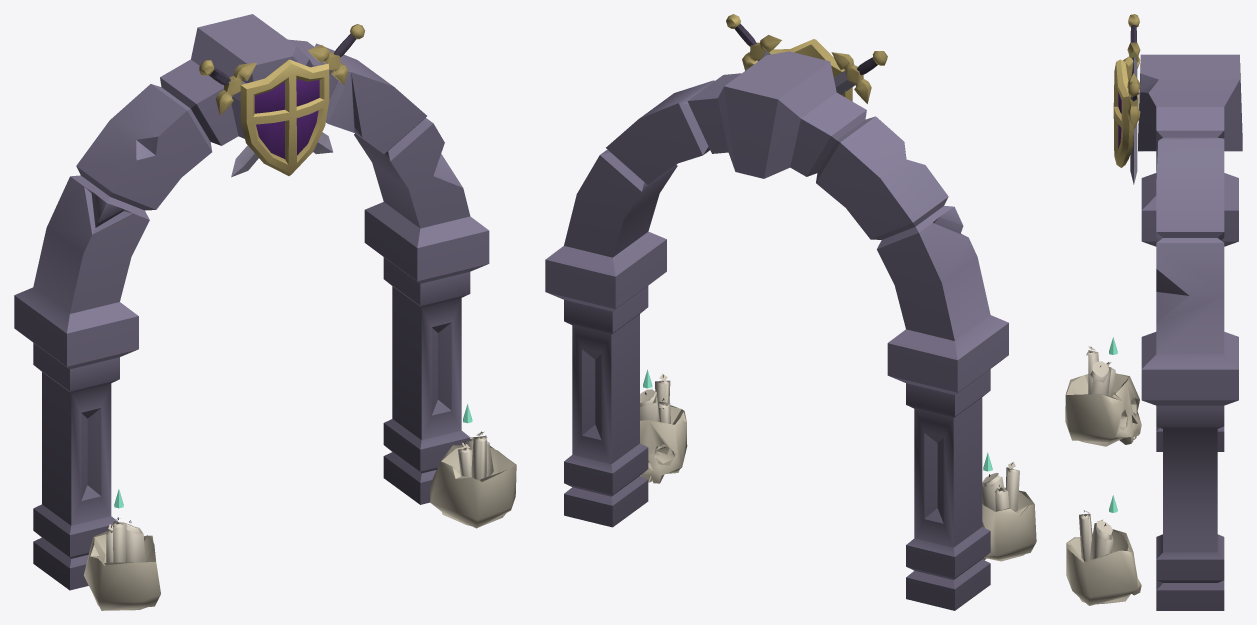
File: boss_gate.fbx
The picture shows the model from 3 angles, left to right: view 1: azimuth 30°, elevation 25°; view 2: azimuth 150°, elevation 25°; view 3: azimuth 270°, elevation 25°; orthographic projection. The views are drawn at different scales.
Parts seen in each view (by area): view 1: boss_gate; view 2: boss_gate; view 3: boss_gate.
Boxes of the visible parts, bbox=[...] form: boss_gate: bbox=[14, 14, 516, 610]; boss_gate: bbox=[545, 14, 1036, 610]; boss_gate: bbox=[1065, 14, 1242, 610].
Size of the model in its own units: 4 by 4.6 by 1.57.
